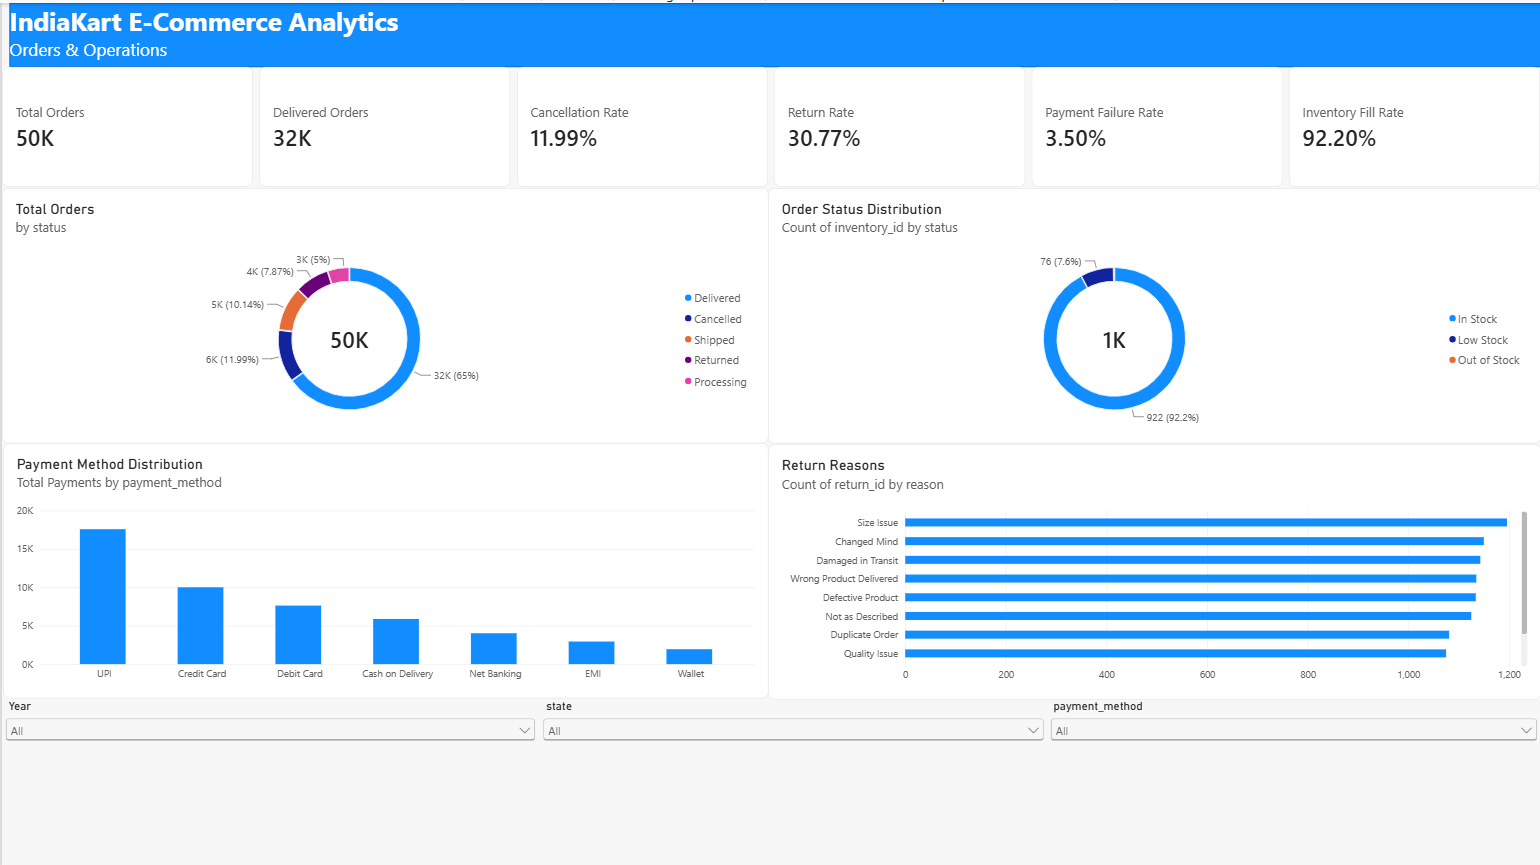

This screenshot's page, from the dashboard's own definition file:
{"tool":"powerbi","page":{"name":"Orders & Operations","canvas":[1920,1080],"ordinal":3},"visuals":[{"type":"shape","box":[10,0,1910,80],"z":0},{"type":"textbox","box":[10,0,1910,80],"z":1},{"type":"cardVisual","fields":{"Data":["Orders.Total Orders","Orders.Delivered Orders","Orders.Cancellation Rate","Orders.Return Rate","Payments.Payment Failure Rate","Inventory.Inventory Fill Rate"]},"box":[0,80,1920,150],"z":2},{"type":"donutChart","fields":{"Category":["Orders.status"],"Y":["Orders.Total Orders"]},"box":[0,230,956,318],"z":3},{"type":"clusteredColumnChart","title":"Payment Method Distribution","fields":{"Category":["Payments.payment_method"],"Y":["Payments.Total Payments"]},"box":[2,548,954,318],"z":4},{"type":"clusteredBarChart","title":"Return Reasons","fields":{"Category":["Returns.reason"],"Y":["CountNonNull(Returns.return_id)"]},"box":[956,550,964,318],"z":5},{"type":"donutChart","title":"Order Status Distribution","fields":{"Category":["Inventory.status"],"Y":["CountNonNull(Inventory.inventory_id)"]},"box":[956,230,964,318],"z":6},{"type":"slicer","fields":{"Values":["Date Table.Year"]},"box":[0,868,670,212],"z":7},{"type":"slicer","fields":{"Values":["Orders.state"]},"box":[670,868,634,212],"z":8},{"type":"slicer","fields":{"Values":["Payments.payment_method"]},"box":[1304,868,616,212],"z":9}]}

Visuals, with their boxes in screenshot pixels (x1, y1, x2, y2), scaled from the page's 1920x1080 canvas onto the 1540x865 screenshot:
shape: l=8, t=0, r=1539, b=64
textbox: l=8, t=0, r=1539, b=64
cardVisual - Orders.Total Orders x Orders.Delivered Orders: l=0, t=64, r=1539, b=184
donutChart - Orders.status x Orders.Total Orders: l=0, t=184, r=767, b=439
"Payment Method Distribution" clusteredColumnChart: l=2, t=439, r=767, b=694
"Return Reasons" clusteredBarChart: l=767, t=441, r=1539, b=695
"Order Status Distribution" donutChart: l=767, t=184, r=1539, b=439
slicer - Date Table.Year: l=0, t=695, r=537, b=864
slicer - Orders.state: l=537, t=695, r=1046, b=864
slicer - Payments.payment_method: l=1046, t=695, r=1539, b=864
